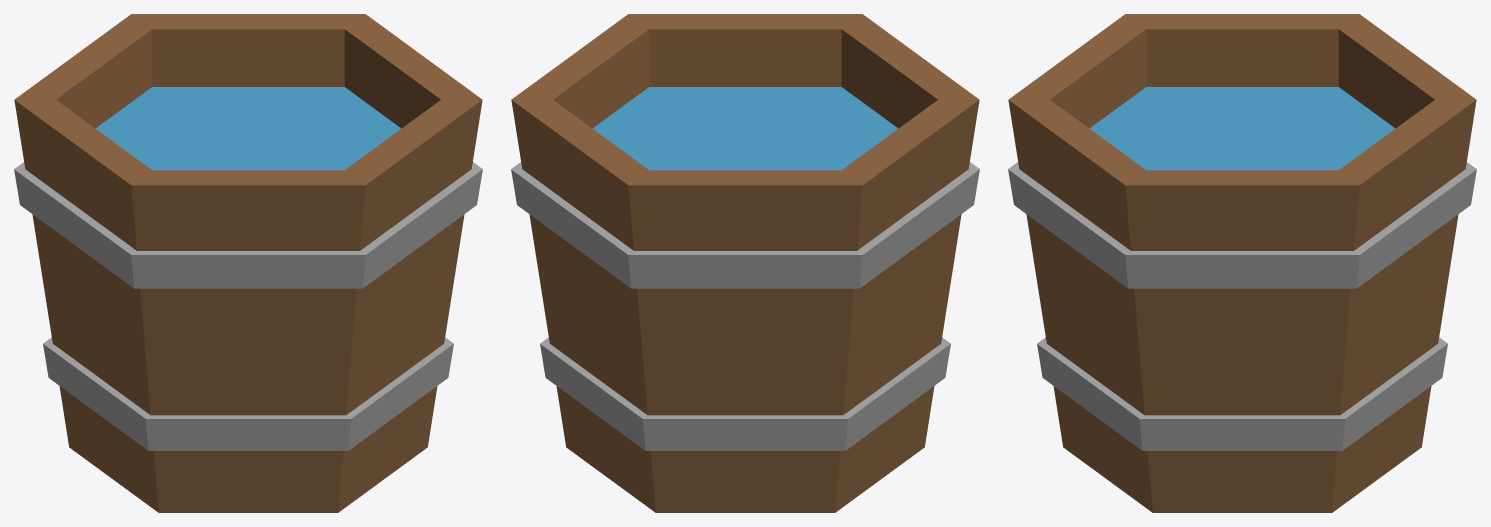
File: Bucket_mat.fbx
3 renders of one model, left to right at view 1: azimuth 30°, elevation 25°; view 2: azimuth 150°, elevation 25°; view 3: azimuth 270°, elevation 25°, orthographic.
Parts seen in each view (by area): view 1: Bucket_mat; view 2: Bucket_mat; view 3: Bucket_mat.
Boxes of the visible parts, x1=… form: Bucket_mat: x1=14, y1=14, x2=482, y2=512; Bucket_mat: x1=511, y1=14, x2=979, y2=512; Bucket_mat: x1=1008, y1=14, x2=1476, y2=512.
Size of the model in its own units: 0.2687 by 0.2538 by 0.3103.
